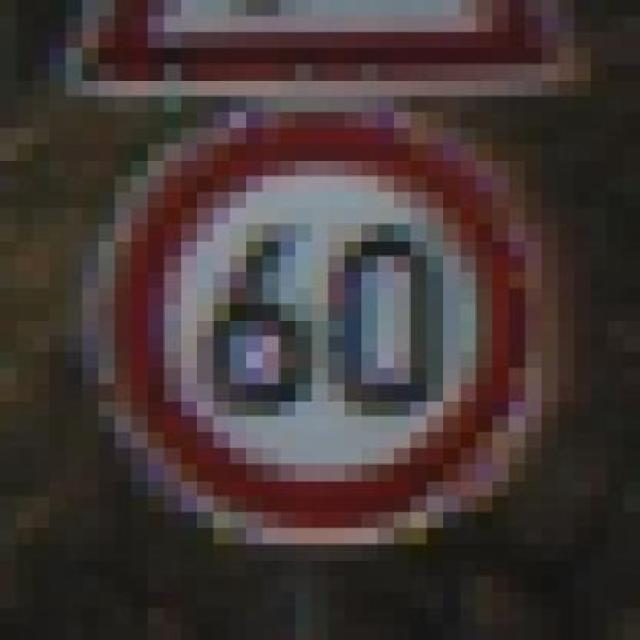forb_speed_over_60: (105, 114, 531, 526)
